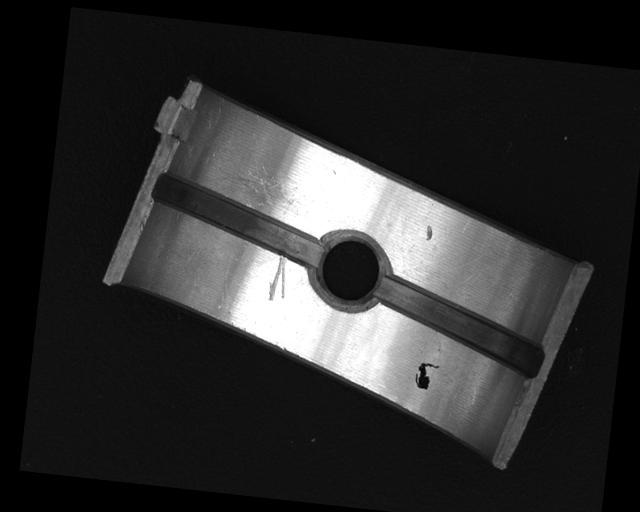blot: (412, 360, 440, 392)
bruise: (424, 223, 433, 243)
gap: (369, 274, 550, 377), (147, 173, 328, 268)
hole: (307, 228, 393, 314)
nick: (266, 252, 290, 302)
scratch: (203, 151, 313, 218)
